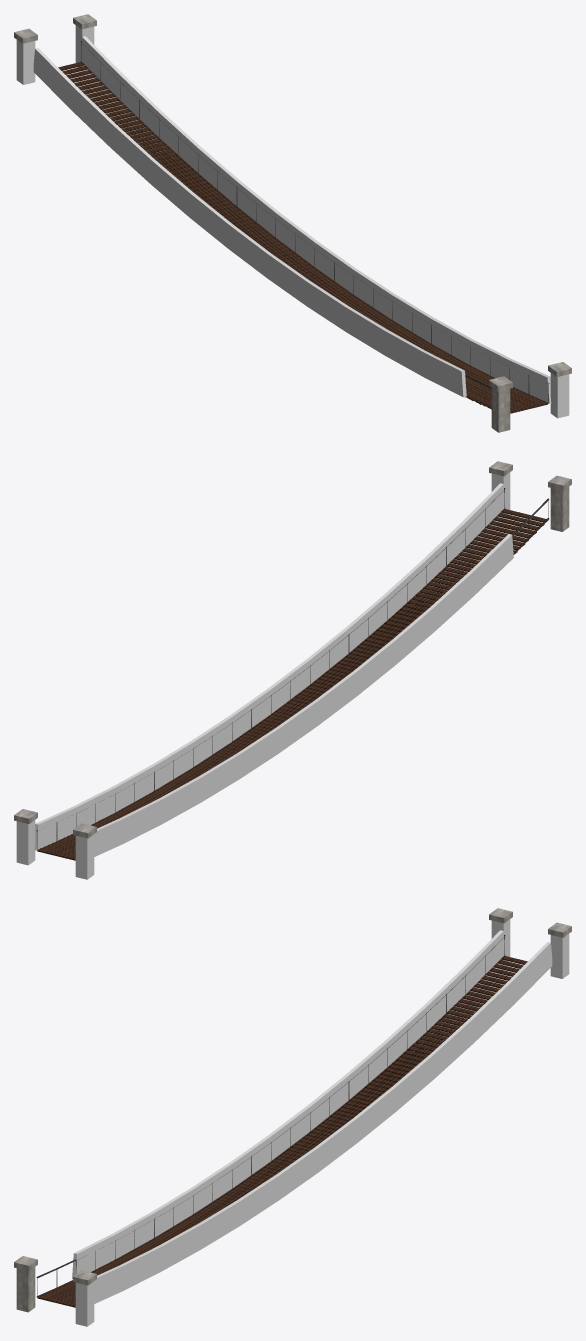
Rendered from chain_bridge.glb.
The picture shows the model from 3 angles, top to bottom: view 1: azimuth 30°, elevation 25°; view 2: azimuth 150°, elevation 25°; view 3: azimuth 330°, elevation 25°; orthographic projection.
Parts seen in each view (by area): view 1: Planks, Anchors, Rail-convcolonly.001, Chains, Rail-convcolonly.023, Rail-convcolonly.010, Rail-convcolonly.011, Rail-convcolonly.021, Rail-convcolonly.022, Rail-convcolonly.009, Rail-convcolonly.012, Rail-convcolonly.008 (+16 smaller); view 2: Planks, Anchors, Chains, Rail-convcolonly.012, Rail-convcolonly.001, Rail-convcolonly.002, Rail-convcolonly.013, Rail-convcolonly.014, Rail-convcolonly.015, Rail-convcolonly.023, Rail-convcolonly.004, Rail-convcolonly.003 (+16 smaller); view 3: Planks, Anchors, Chains, Rail-convcolonly.011, Rail-convcolonly.021, Rail-convcolonly.022, Rail-convcolonly.023, Rail-convcolonly.010, Rail-convcolonly.009, Rail-convcolonly.019, Rail-convcolonly.008, Rail-convcolonly.020 (+16 smaller).
Boxes of the visible parts, left/top/right/bottom form: Planks: left=58, top=61, right=547, bottom=413; Anchors: left=14, top=14, right=571, bottom=432; Rail-convcolonly.001: left=423, top=351, right=466, bottom=397; Chains: left=80, top=41, right=549, bottom=406; Rail-convcolonly.023: left=80, top=36, right=124, bottom=98; Rail-convcolonly.010: left=72, top=87, right=115, bottom=147; Rail-convcolonly.011: left=33, top=48, right=76, bottom=110; Rail-convcolonly.021: left=158, top=112, right=201, bottom=171; Rail-convcolonly.022: left=119, top=75, right=162, bottom=136; Rail-convcolonly.009: left=111, top=124, right=154, bottom=183; Rail-convcolonly.012: left=508, top=359, right=551, bottom=403; Rail-convcolonly.008: left=150, top=159, right=192, bottom=217; Planks: left=37, top=509, right=548, bottom=860; Anchors: left=14, top=461, right=571, bottom=838; Chains: left=36, top=488, right=549, bottom=850; Rail-convcolonly.012: left=461, top=483, right=505, bottom=545; Rail-convcolonly.001: left=470, top=534, right=513, bottom=594; Rail-convcolonly.002: left=431, top=571, right=474, bottom=630; Rail-convcolonly.013: left=423, top=522, right=466, bottom=583; Rail-convcolonly.014: left=384, top=559, right=427, bottom=618; Rail-convcolonly.015: left=345, top=595, right=388, bottom=652; Rail-convcolonly.023: left=34, top=806, right=77, bottom=850; Rail-convcolonly.004: left=354, top=639, right=396, bottom=695; Rail-convcolonly.003: left=393, top=606, right=435, bottom=664; Planks: left=37, top=956, right=527, bottom=1307; Anchors: left=14, top=908, right=571, bottom=1312; Chains: left=36, top=935, right=505, bottom=1297; Rail-convcolonly.011: left=461, top=930, right=505, bottom=992; Rail-convcolonly.021: left=431, top=1018, right=474, bottom=1077; Rail-convcolonly.022: left=470, top=981, right=513, bottom=1041; Rail-convcolonly.023: left=509, top=942, right=552, bottom=1004; Rail-convcolonly.010: left=423, top=969, right=466, bottom=1029; Rail-convcolonly.009: left=384, top=1006, right=427, bottom=1065; Rail-convcolonly.019: left=354, top=1086, right=396, bottom=1142; Rail-convcolonly.008: left=345, top=1042, right=388, bottom=1099; Rail-convcolonly.020: left=393, top=1053, right=435, bottom=1111.
Size of what is drawn, in the model's own units: 4.4 by 4.17 by 49.7.
Materials: 3 (3 with a texture image).
